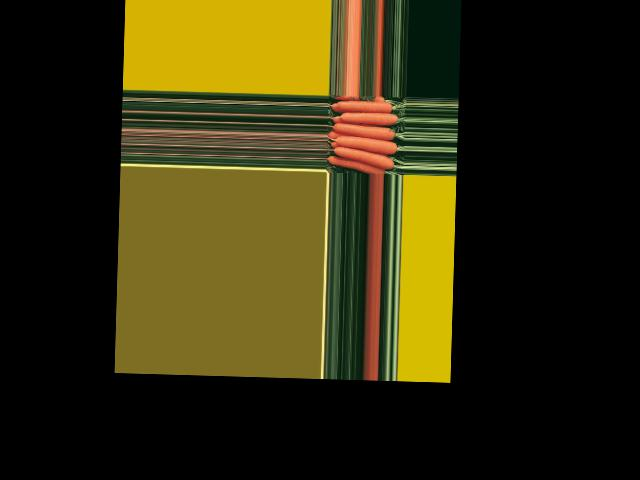carrot: (328, 154, 387, 175)
